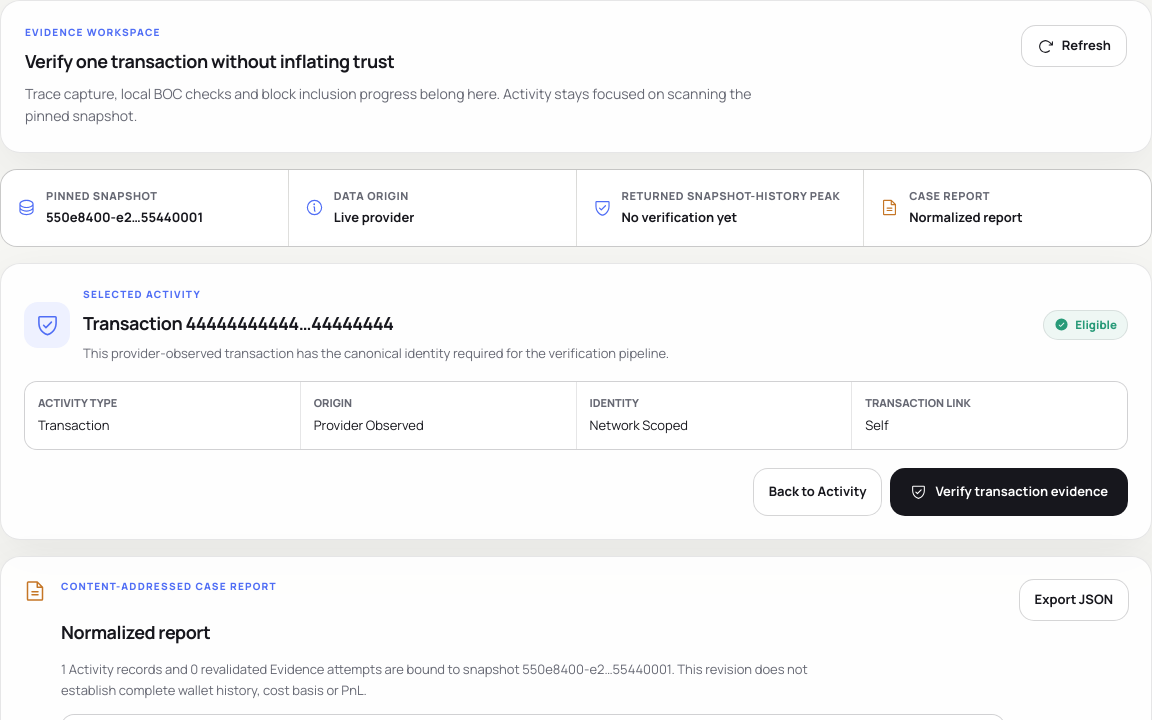
Test: GramCaseEvidence › keeps and focuses the accepted heading while the newly pinned GET is deferred
Click the button "Verify transaction evidence" at (1009, 492), box [890,468,1128,516]
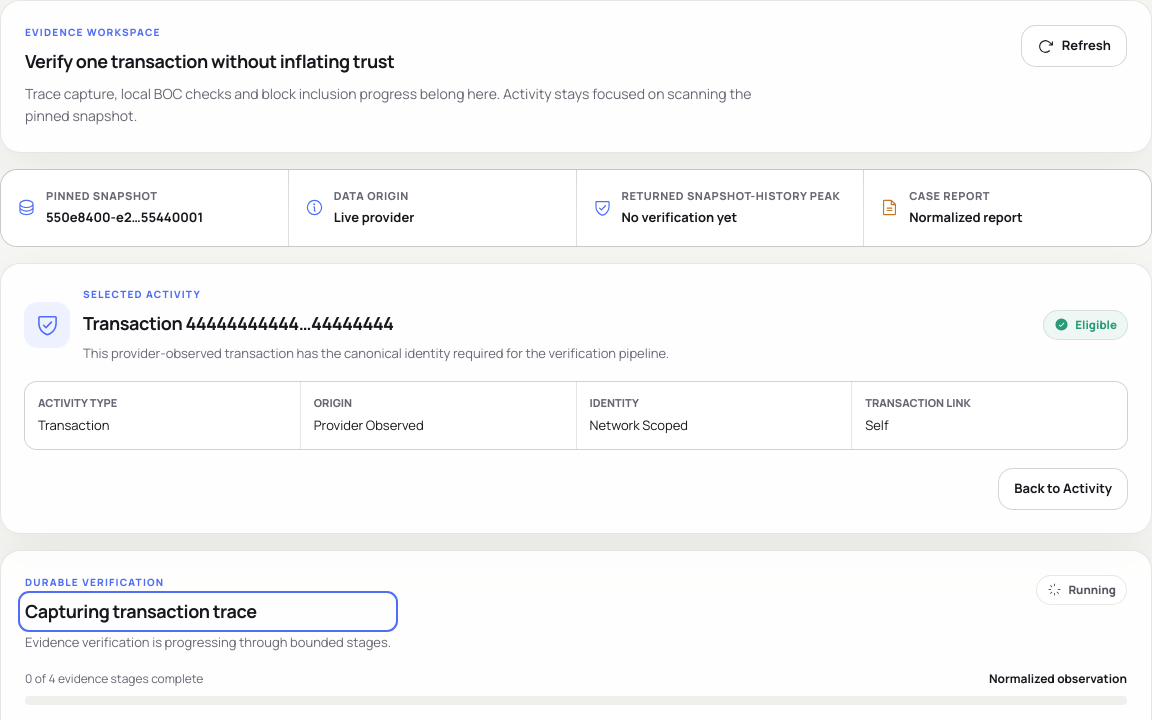
Expected: the heading "Capturing transaction trace" is shown, [25,599,257,623]
